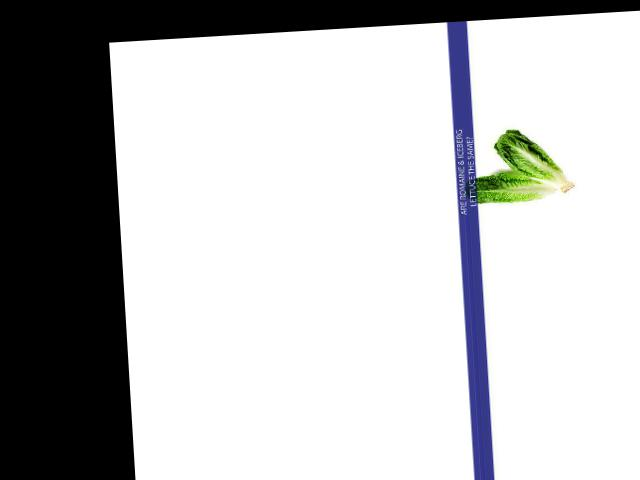lettuce: (489, 128, 584, 196)
